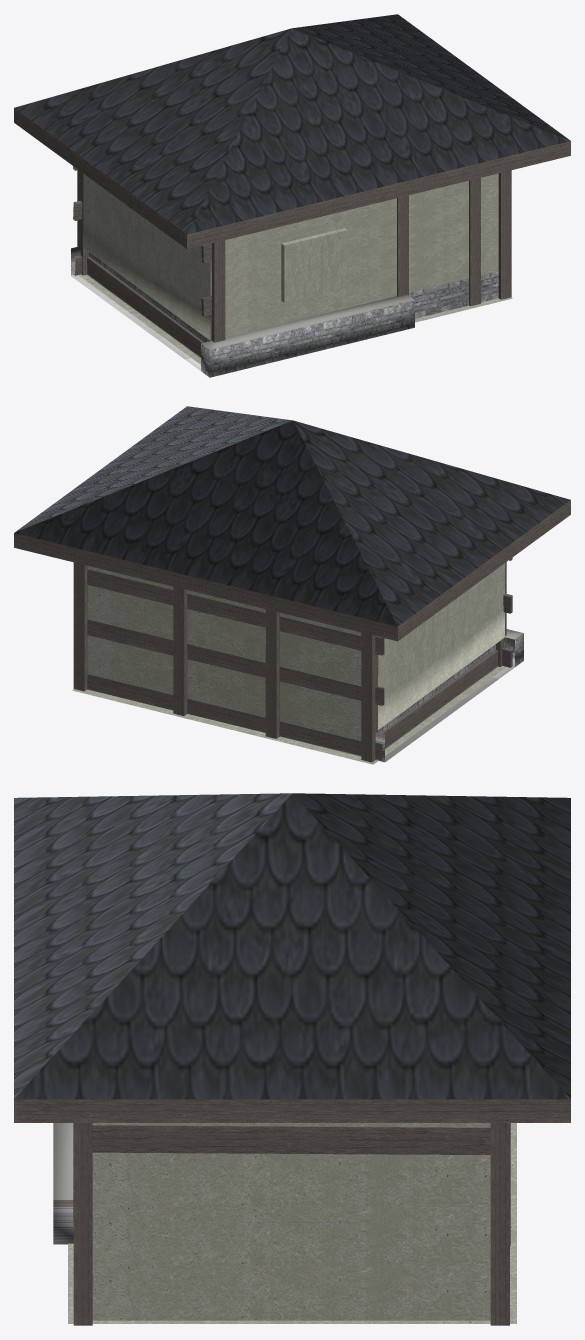
The model's file is STORAGE.fbx.
3 views of the same model, one above another, from view 1: azimuth 30°, elevation 25°; view 2: azimuth 150°, elevation 25°; view 3: azimuth 270°, elevation 25° (orthographic). The views are drawn at different scales.
Parts seen in each view (by area): view 1: Outside storage.028; view 2: Outside storage.028; view 3: Outside storage.028.
Part boxes in pixels (box(x1,y1,x2,y2)): Outside storage.028: box(14, 14, 570, 377); Outside storage.028: box(14, 406, 570, 764); Outside storage.028: box(14, 793, 570, 1325).
Bounding box in the file's own units: 2710 × 1741 × 2117.
1 material, 1 textured.
